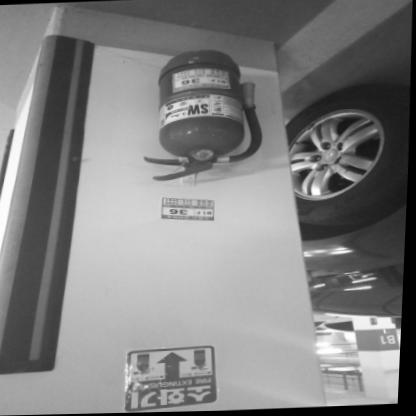FE: (140, 47, 264, 181)
